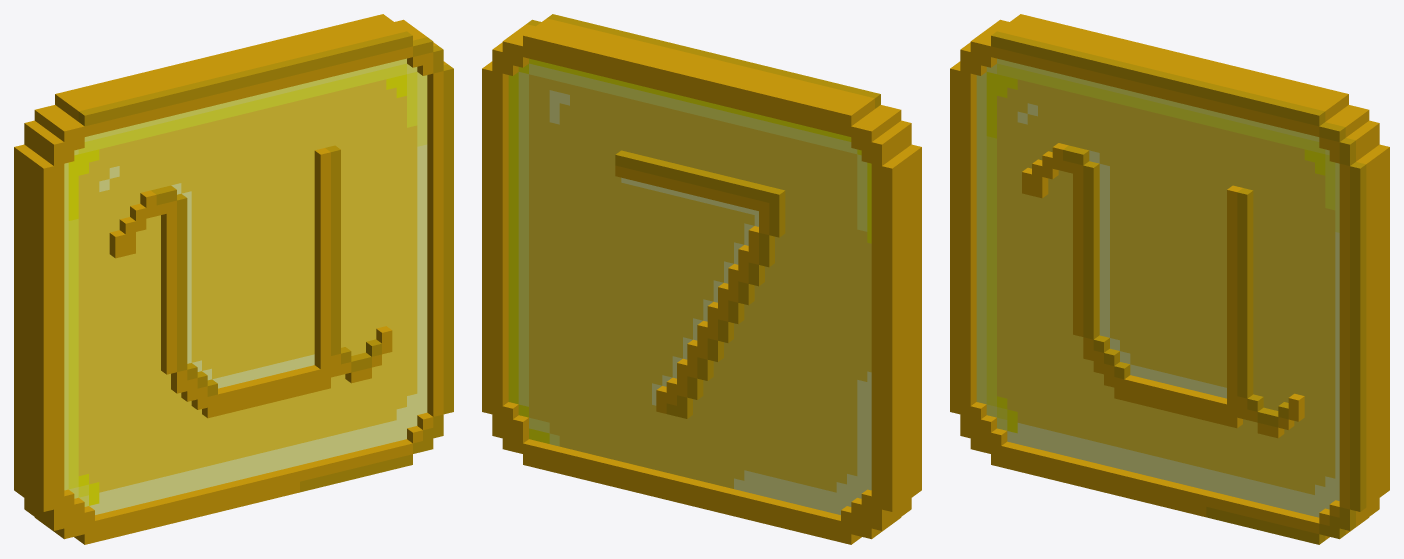
Rendered from Coin.obj.
3 views of the same model, side by side, from view 1: azimuth 30°, elevation 25°; view 2: azimuth 150°, elevation 25°; view 3: azimuth 330°, elevation 25° (orthographic).
Size of the model in its own units: 4 by 4 by 0.5.
Materials: 1 (1 with a texture image).
